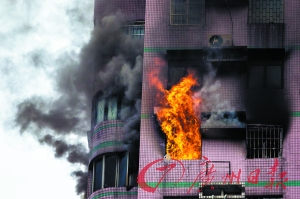fire: (147, 71, 209, 160)
smoke: (13, 21, 146, 110)
